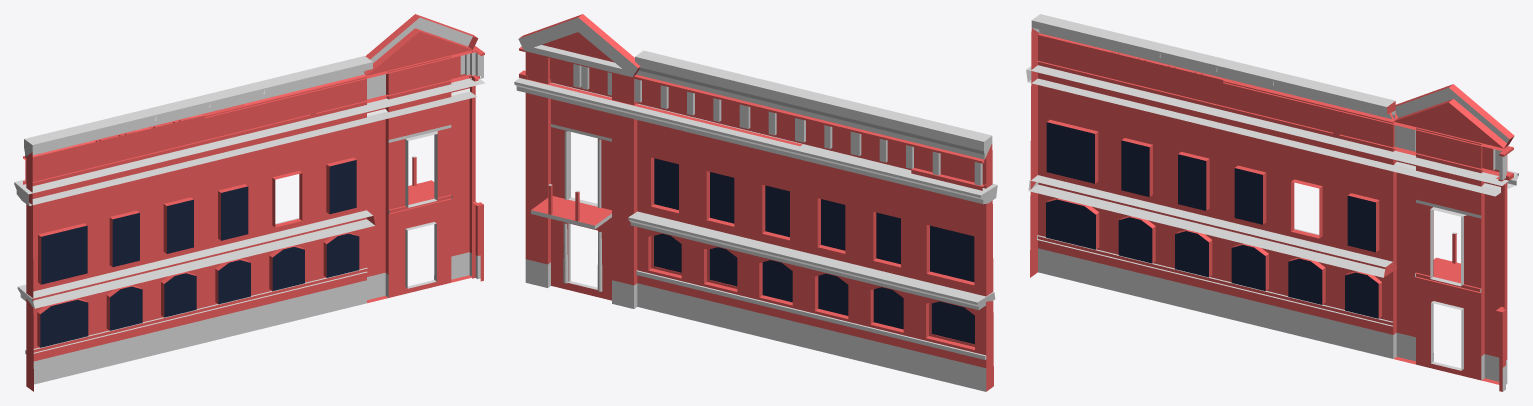
The model's file is Дом Миши Рюмшина.fbx.
3 views of the same model, side by side, from view 1: azimuth 30°, elevation 25°; view 2: azimuth 150°, elevation 25°; view 3: azimuth 330°, elevation 25° (orthographic). The views are drawn at different scales.
Parts seen in each view (by area): view 1: Cube.019; view 2: Cube.019; view 3: Cube.019.
Boxes of the visible parts, x1,y1,x2,y2 form: Cube.019: (14, 14, 484, 391); Cube.019: (514, 14, 997, 391); Cube.019: (1026, 14, 1518, 391).
Size of the model in its own units: 1307 by 746 by 146.
